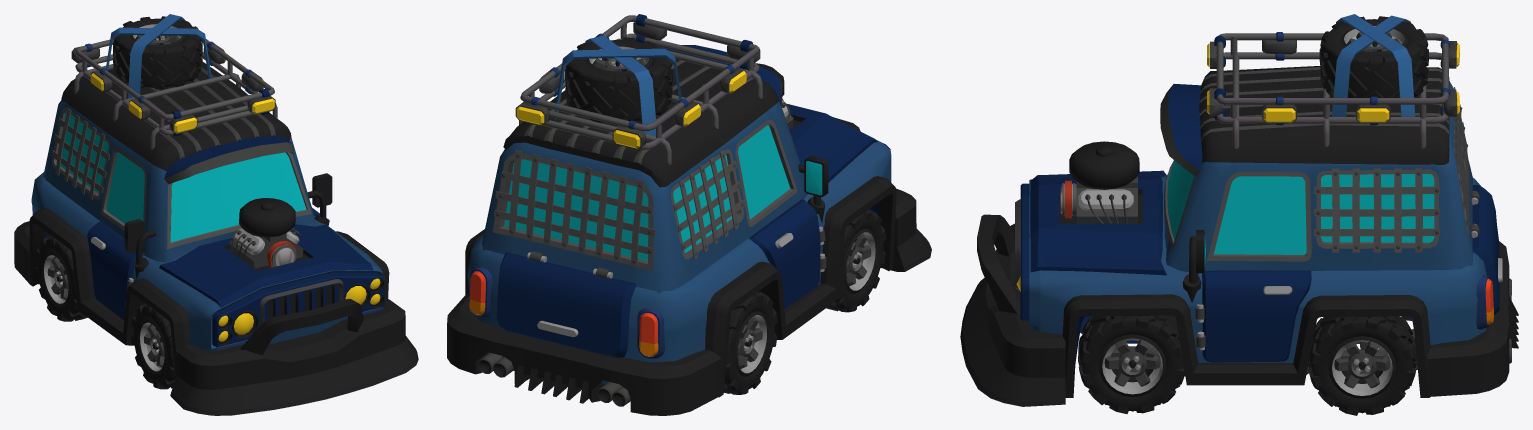
The model's file is VEH10-C.fbx.
The picture shows the model from 3 angles, left to right: view 1: azimuth 30°, elevation 25°; view 2: azimuth 150°, elevation 25°; view 3: azimuth 270°, elevation 25°; orthographic projection. The views are drawn at different scales.
Parts seen in each view (by area): view 1: VEH10_C, V10C_BodyParts, V10C_Wheel_FR, V10C_Wheel_BR; view 2: VEH10_C, V10C_BodyParts, V10C_Wheel_BR, V10C_Wheel_FR; view 3: VEH10_C, V10C_Wheel_BL, V10C_Wheel_FL, V10C_BodyParts.
Boxes of the visible parts, x1=… form: VEH10_C: x1=14, y1=39, x2=418, y2=415; V10C_BodyParts: x1=106, y1=14, x2=211, y2=98; V10C_Wheel_FR: x1=131, y1=303, x2=175, y2=389; V10C_Wheel_BR: x1=35, y1=235, x2=87, y2=321; VEH10_C: x1=447, y1=14, x2=931, y2=415; V10C_BodyParts: x1=554, y1=35, x2=681, y2=136; V10C_Wheel_BR: x1=724, y1=291, x2=777, y2=394; V10C_Wheel_FR: x1=826, y1=209, x2=886, y2=312; VEH10_C: x1=960, y1=32, x2=1518, y2=406; V10C_Wheel_BL: x1=1308, y1=316, x2=1416, y2=415; V10C_Wheel_FL: x1=1078, y1=315, x2=1184, y2=413; V10C_BodyParts: x1=1319, y1=14, x2=1428, y2=116.
Bounding box in the file's own units: 271 × 289 × 455.
Materials: 1 (1 with a texture image).
